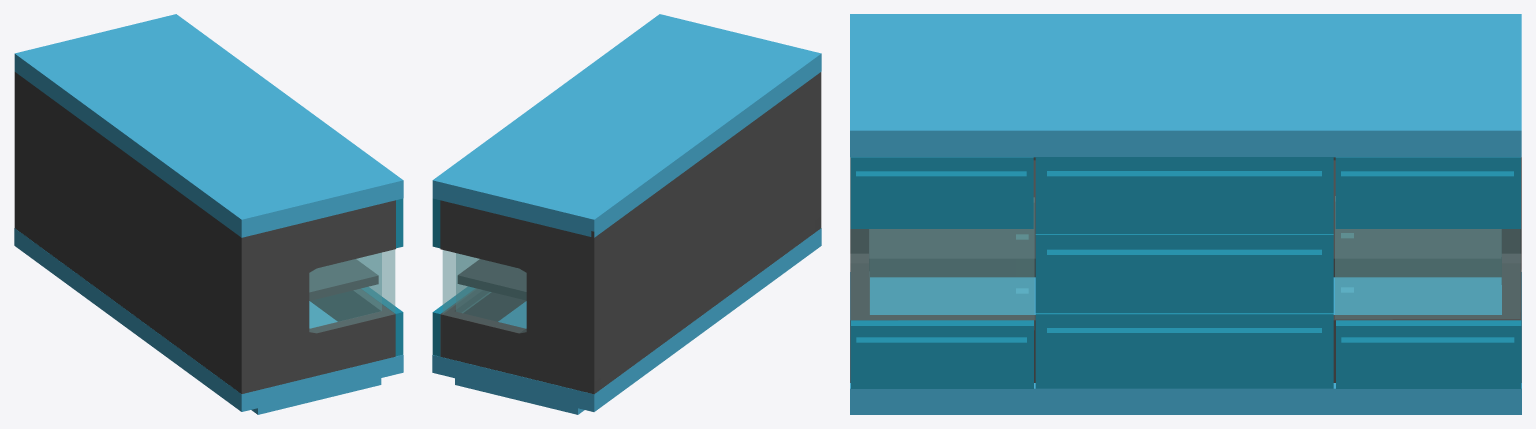
Rendered from dresser_tier15.fbx.
The picture shows the model from 3 angles, left to right: view 1: azimuth 30°, elevation 25°; view 2: azimuth 150°, elevation 25°; view 3: azimuth 270°, elevation 25°; orthographic projection. The views are drawn at different scales.
Visible parts, largest first — view 1: Cube.022, Cube.021, Cube.011, Cube.007, Cube.006, Cube.010, Cube.009, Cube; view 2: Cube.022, Cube.021, Cube.011, Cube.004, Cube.006, Cube.010, Cube.008, Cube.005; view 3: Cube.021, Cube.011, Cube.002, Cube.001, Cube.003, Cube.007, Cube.004, Cube.006, Cube.005, Cube, Cube.008, Cube.009 (+1 smaller).
Part boxes in pixels (bbox=[...]): Cube.022: bbox=[14, 72, 395, 393]; Cube.021: bbox=[14, 14, 403, 237]; Cube.011: bbox=[14, 228, 403, 411]; Cube.007: bbox=[309, 249, 395, 332]; Cube.006: bbox=[309, 259, 378, 300]; Cube.010: bbox=[251, 378, 381, 414]; Cube.009: bbox=[361, 287, 403, 356]; Cube: bbox=[396, 198, 403, 248]; Cube.022: bbox=[440, 72, 821, 394]; Cube.021: bbox=[432, 14, 821, 237]; Cube.011: bbox=[432, 228, 821, 411]; Cube.004: bbox=[442, 250, 526, 332]; Cube.006: bbox=[457, 259, 526, 300]; Cube.010: bbox=[455, 378, 584, 414]; Cube.008: bbox=[432, 287, 474, 356]; Cube.005: bbox=[432, 198, 440, 248]; Cube.021: bbox=[850, 14, 1521, 157]; Cube.011: bbox=[850, 272, 1521, 414]; Cube.002: bbox=[1035, 234, 1333, 312]; Cube.001: bbox=[1035, 157, 1333, 233]; Cube.003: bbox=[1035, 313, 1333, 388]; Cube.007: bbox=[851, 197, 1034, 329]; Cube.004: bbox=[1335, 196, 1520, 318]; Cube.006: bbox=[869, 160, 1501, 271]; Cube.005: bbox=[1335, 157, 1520, 228]; Cube: bbox=[850, 157, 1033, 228]; Cube.008: bbox=[1336, 320, 1521, 388]; Cube.009: bbox=[851, 320, 1033, 388].
Size of the model in its own units: 89.3 by 106 by 217.
